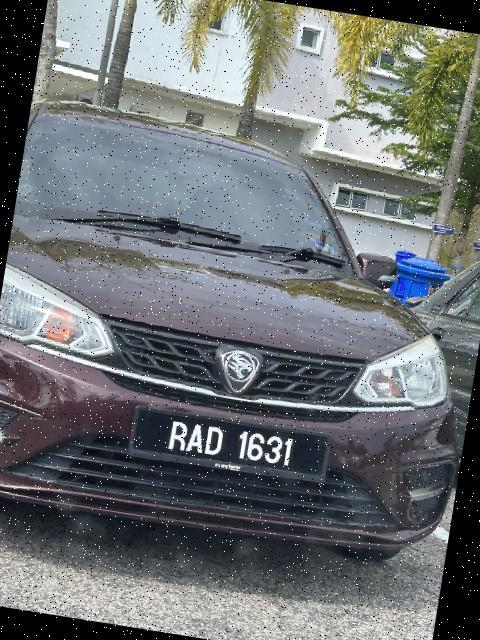License_Plate: (124, 404, 333, 486)
RAD1631: (124, 404, 333, 486)
car: (1, 97, 480, 577)
